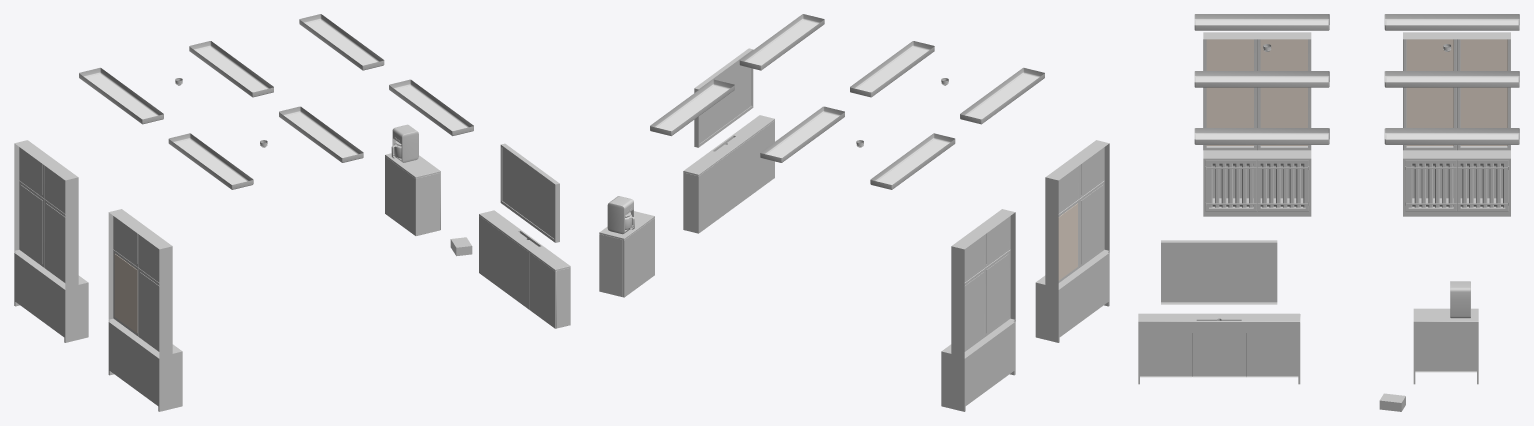
File: Windows_Door_TV_Lamps_Coffee.fbx
The picture shows the model from 3 angles, left to right: view 1: azimuth 30°, elevation 25°; view 2: azimuth 150°, elevation 25°; view 3: azimuth 270°, elevation 25°; orthographic projection. The views are drawn at different scales.
Visible parts, largest first — view 1: Windows_Door_TV_Lamps_Coffe; view 2: Windows_Door_TV_Lamps_Coffe; view 3: Windows_Door_TV_Lamps_Coffe.
Boxes of the visible parts, <box> form: Windows_Door_TV_Lamps_Coffe: <box>14,14,570,411</box>; Windows_Door_TV_Lamps_Coffe: <box>599,14,1109,411</box>; Windows_Door_TV_Lamps_Coffe: <box>1138,14,1519,411</box>.
Size of the model in its own units: 545 by 280 by 424.
